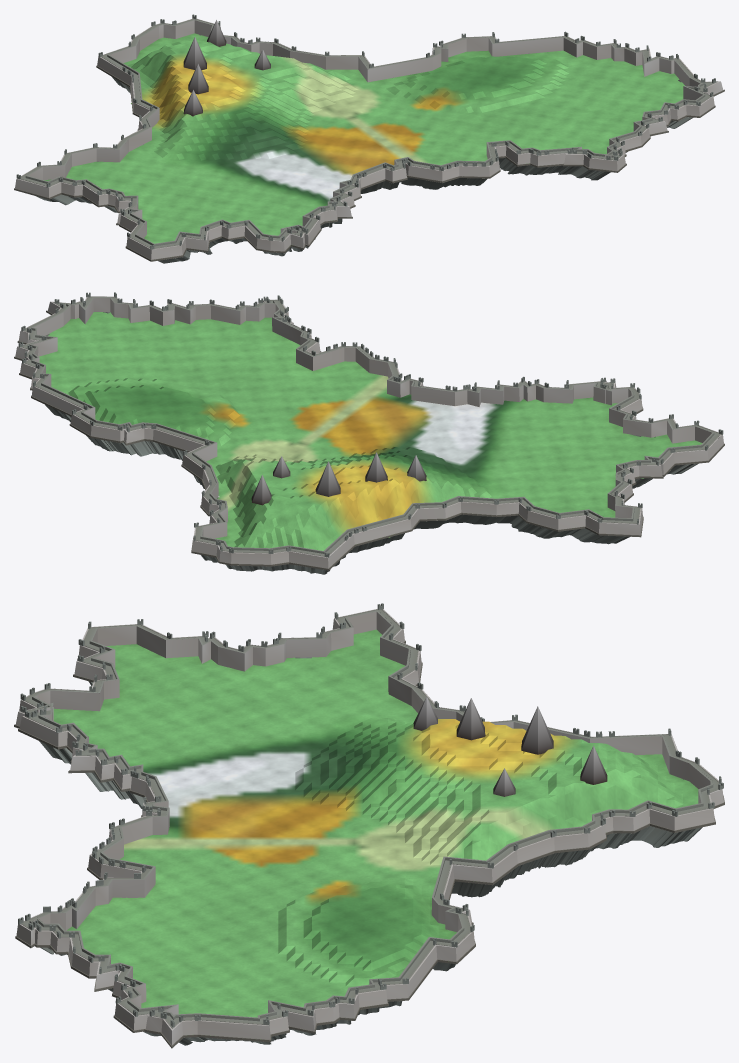
The picture shows the model from 3 angles, top to bottom: view 1: azimuth 30°, elevation 25°; view 2: azimuth 150°, elevation 25°; view 3: azimuth 270°, elevation 25°; orthographic projection. The views are drawn at different scales.
Visible parts, largest first — view 1: ground_58c74cc3; view 2: ground_58c74cc3; view 3: ground_58c74cc3.
Part boxes in pixels (x1,y1,x2,y2): ground_58c74cc3: [14, 14, 724, 263]; ground_58c74cc3: [14, 292, 724, 574]; ground_58c74cc3: [14, 603, 724, 1048].
Bounding box in the file's own units: 180 × 18.4 × 126.
3 materials, 1 textured.
